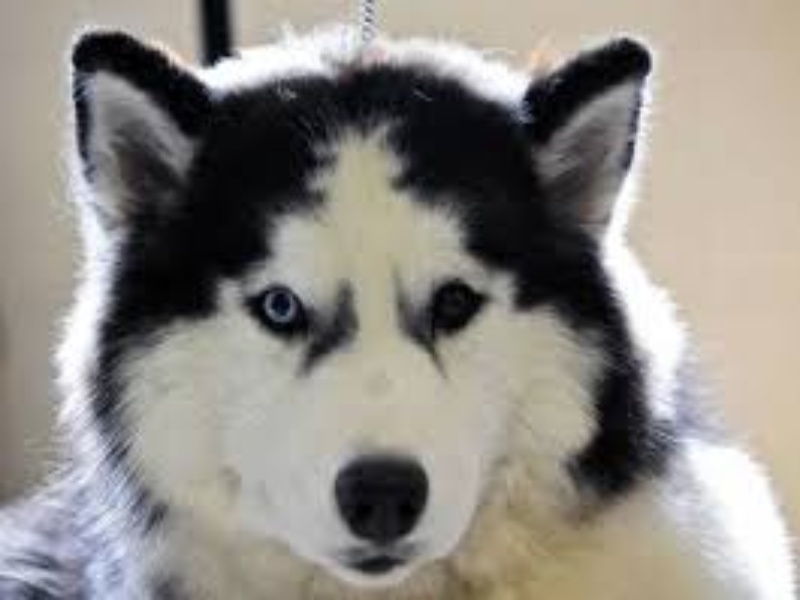dog: (37, 23, 742, 591)
